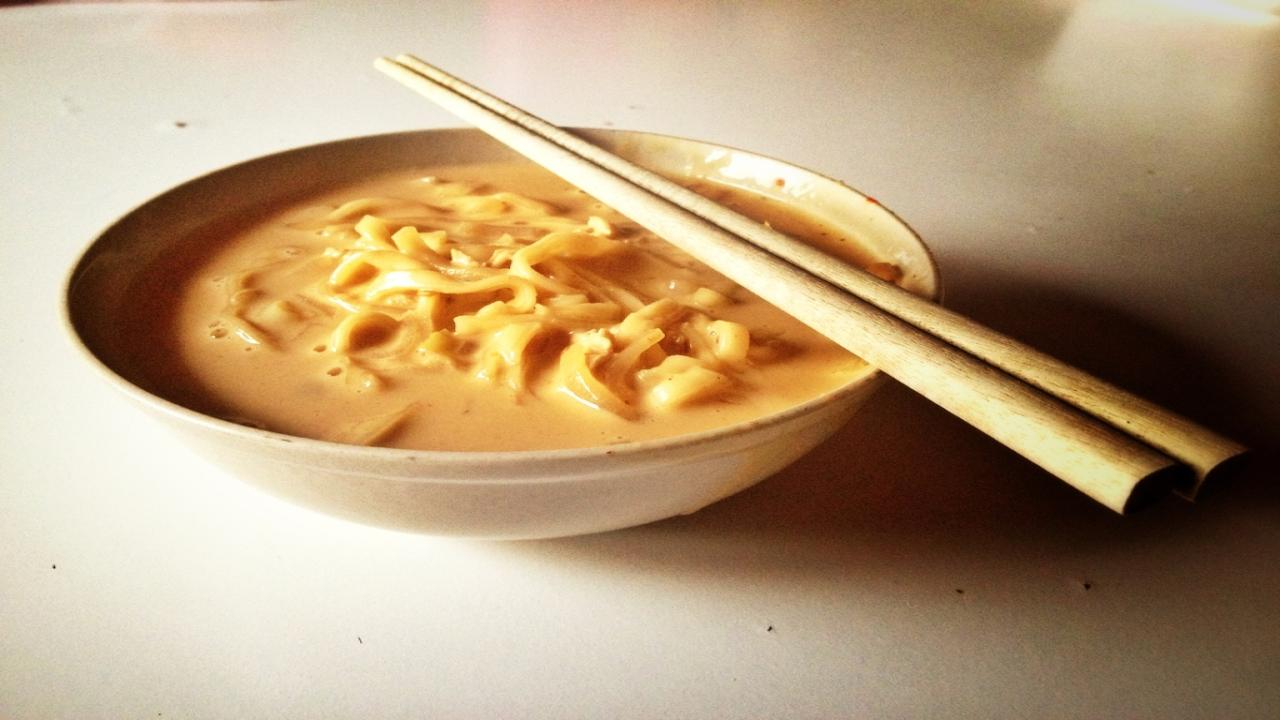chopstick: (375, 54, 1247, 516)
